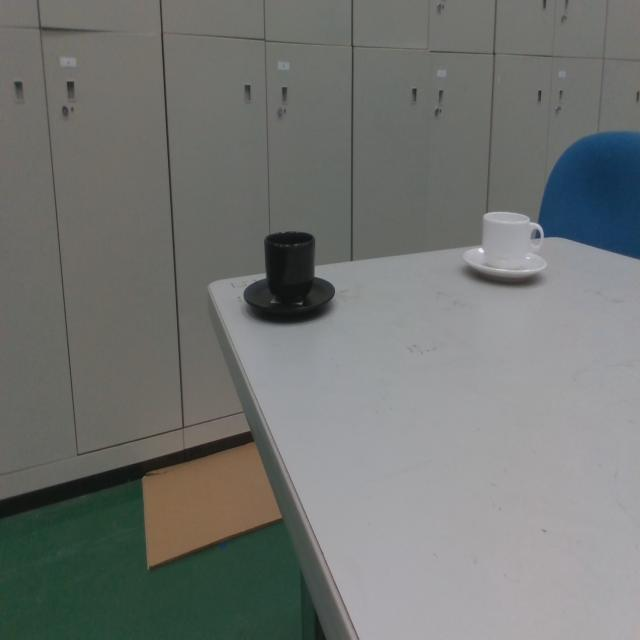black: (240, 230, 338, 324)
white: (461, 202, 551, 288)
